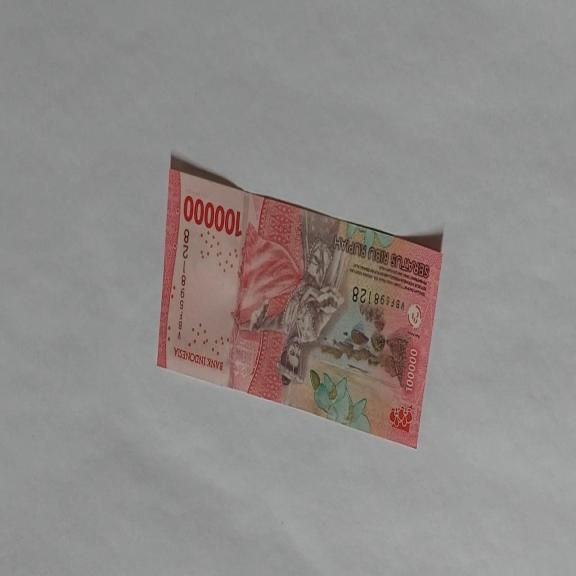Kertas: (182, 194, 242, 237)
